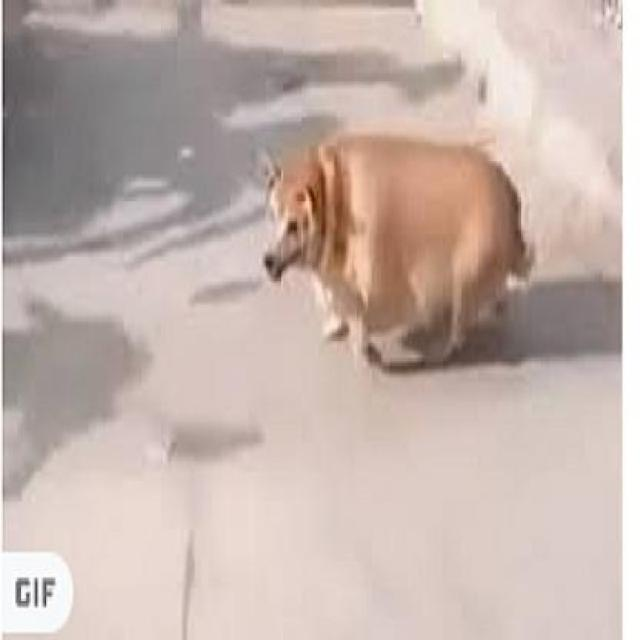Dog: (255, 128, 543, 382)
